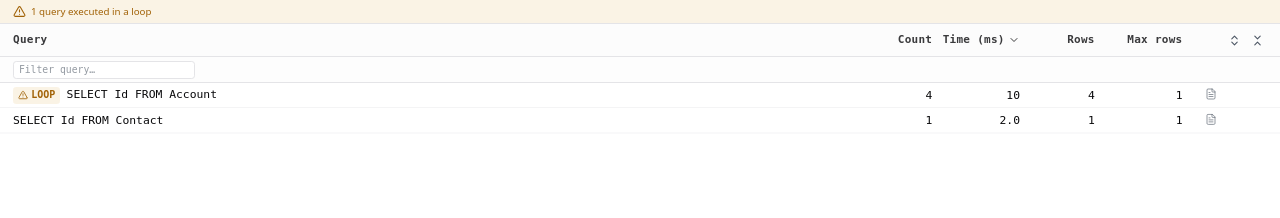
Test case: SOQL Analysis — jump to a specific occurrence of a looped query › clicking a specific occurrence jumps to that exact line and closes the menu
Click the button titled "4 occurrences — click to pick one": point(1211, 94) [1203,86,1218,102]
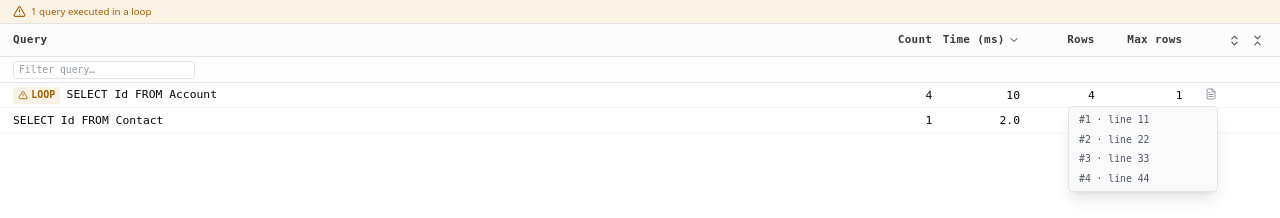
Click the button "#3 · line 33": point(1143, 159) [1069,149,1217,168]
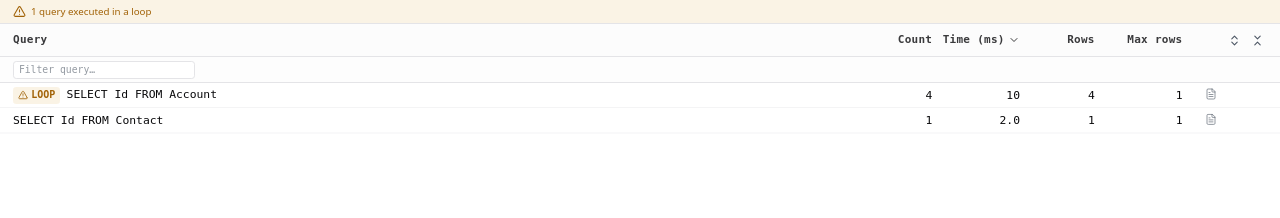
Check: the button "#1 · line 11" is gone
